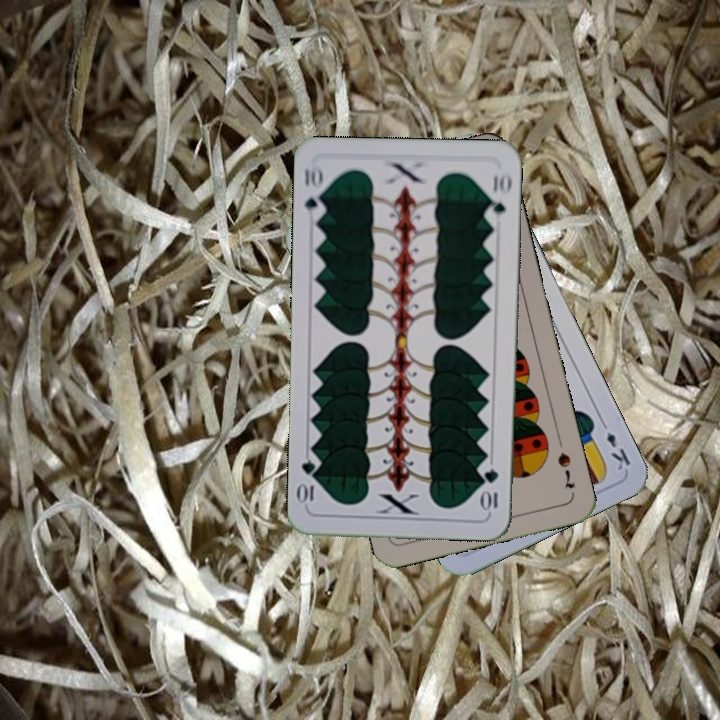EK: (596, 416, 633, 473)
G10: (300, 162, 327, 221), (480, 465, 501, 514)
S7: (553, 448, 578, 491)
